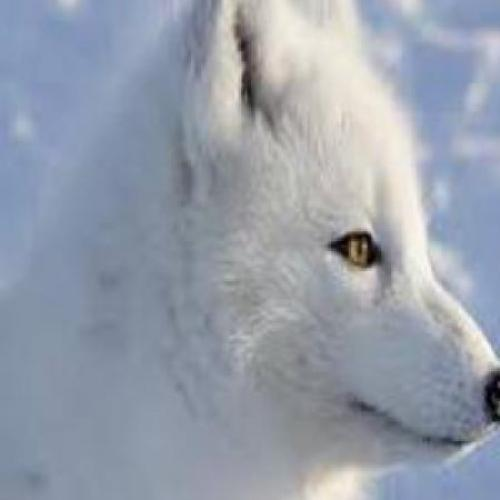arctic_fox-endangered: (12, 9, 492, 488)
